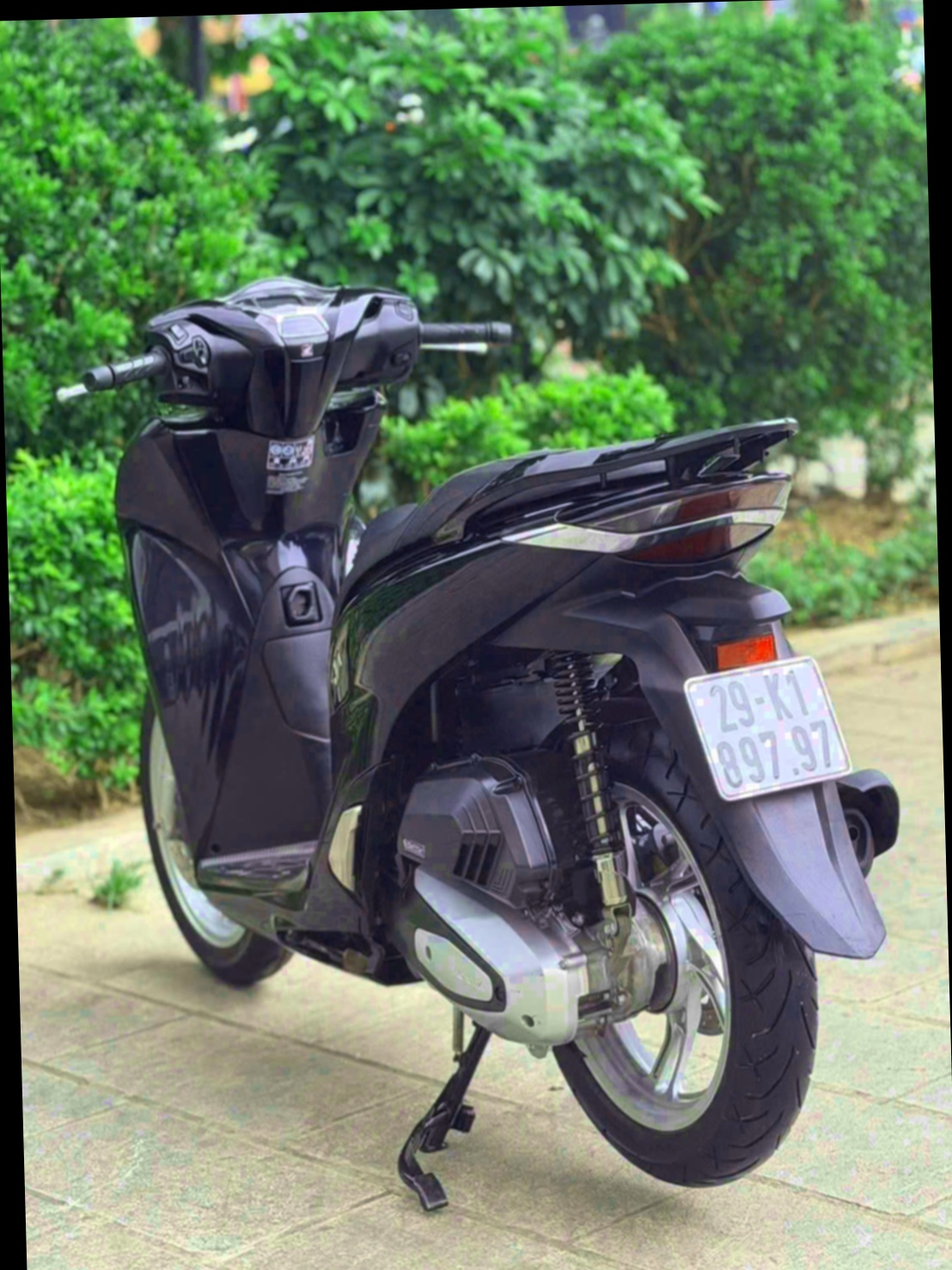Bien-so: (686, 610, 880, 764)
